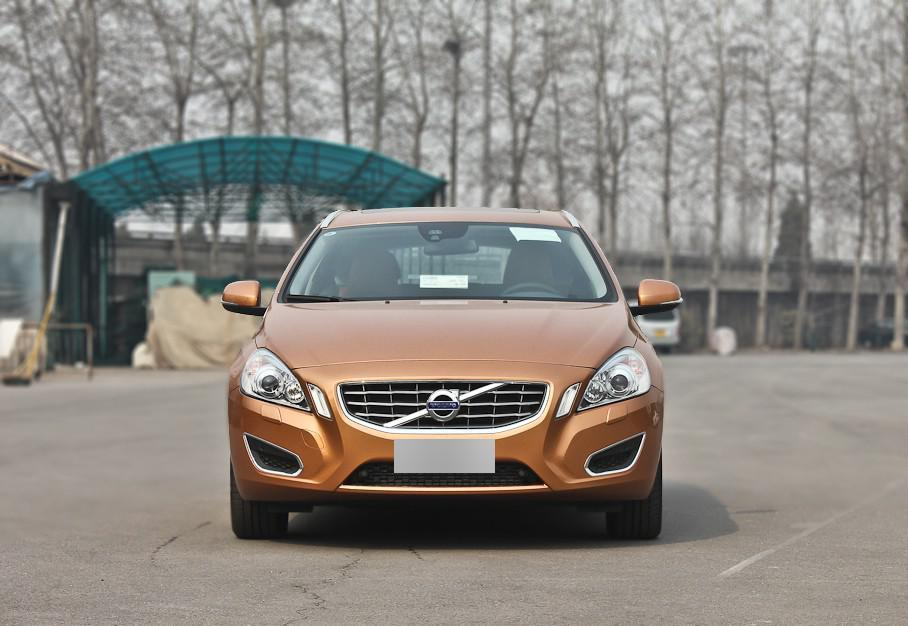Wagon: (219, 205, 683, 536)
